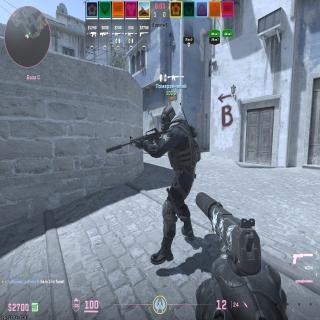CT-Body: (151, 105, 201, 266)
CT-Head: (160, 105, 176, 132)
